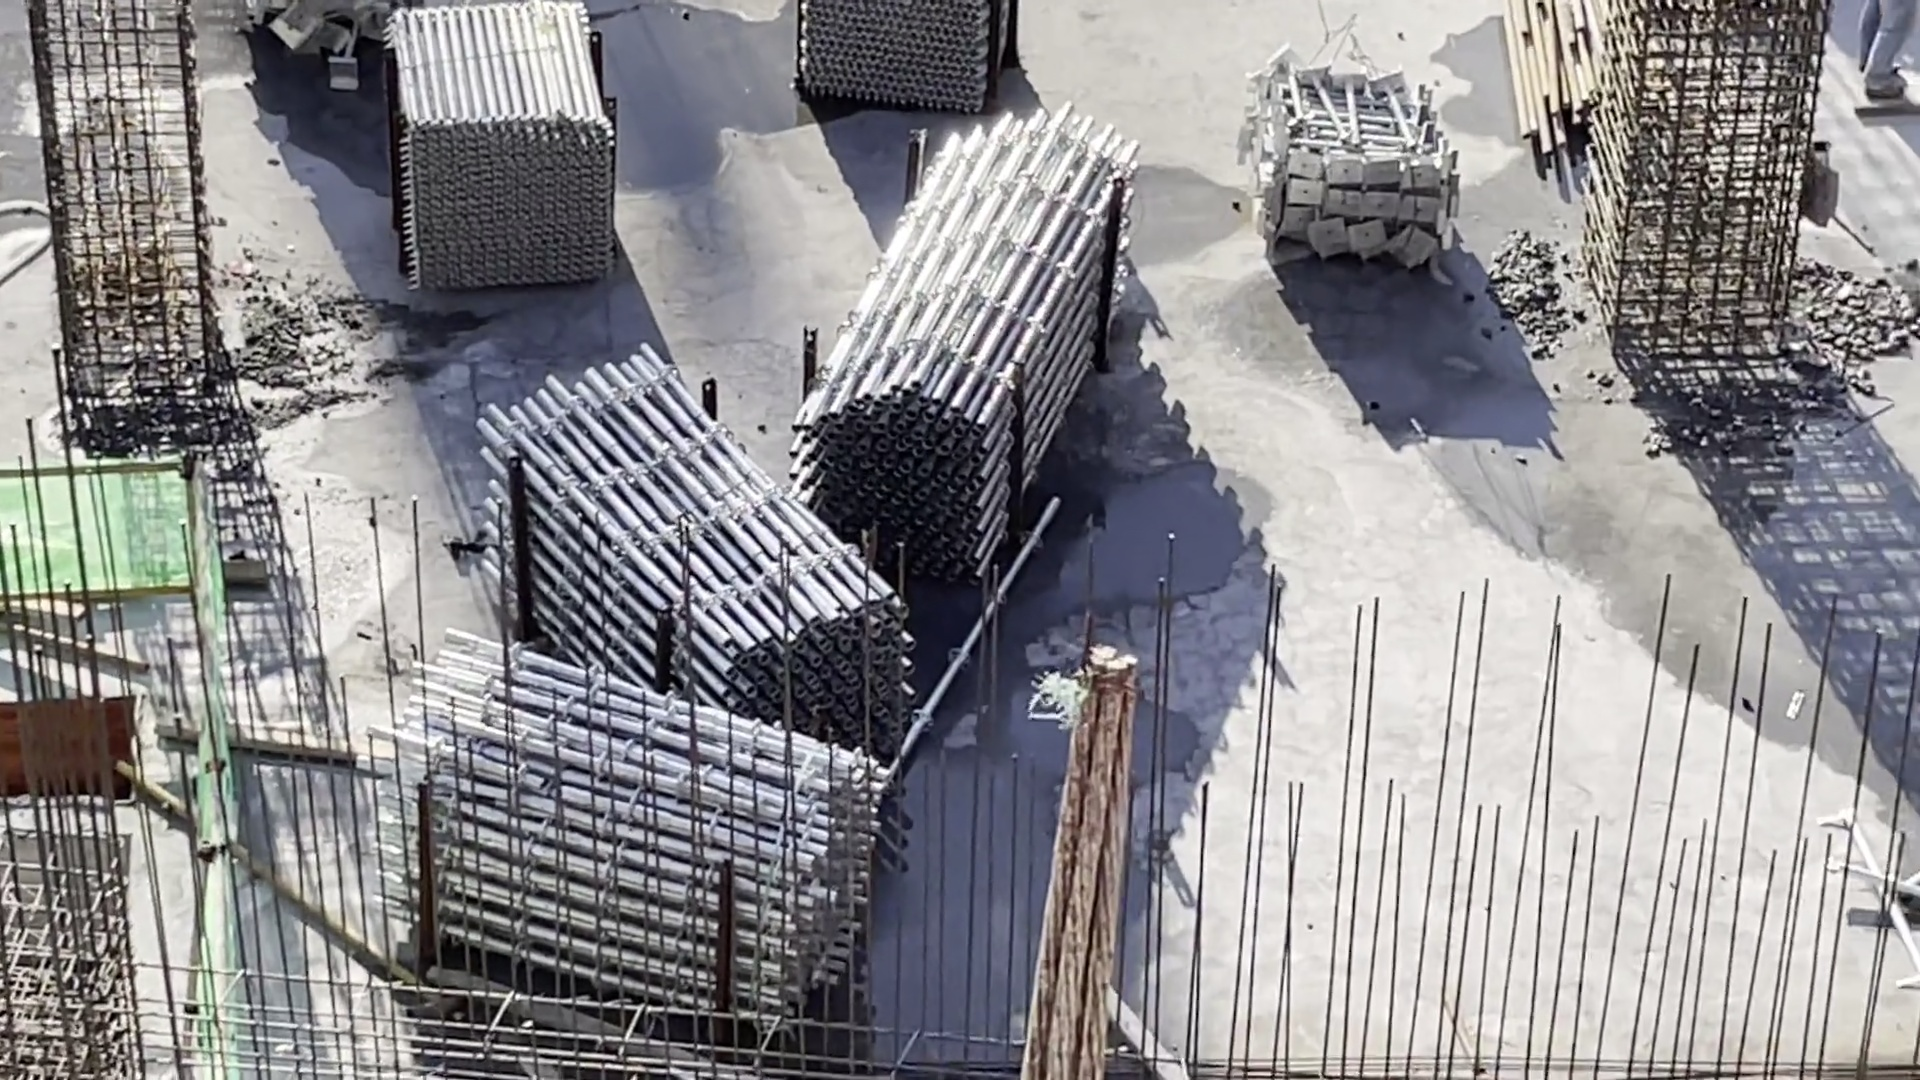person: (1833, 1, 1915, 115)
scaffold: (397, 649, 887, 1033), (473, 359, 914, 766), (842, 126, 1137, 570), (377, 12, 628, 304), (1242, 57, 1473, 266), (791, 1, 1019, 114)
